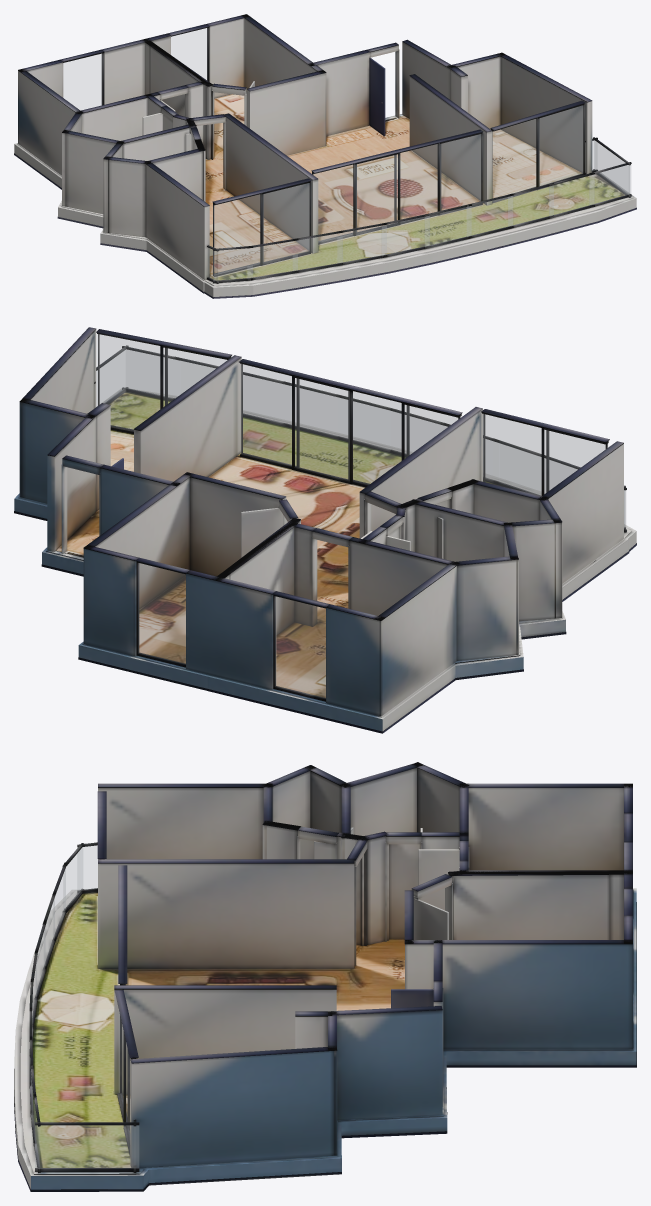
The picture shows the model from 3 angles, top to bottom: view 1: azimuth 30°, elevation 25°; view 2: azimuth 150°, elevation 25°; view 3: azimuth 270°, elevation 25°; orthographic projection. The views are drawn at different scales.
Parts seen in each view (by area): view 1: plan, glass2_m, glass3_m, glass4_m, glass0_m, railg10_m, railg9_m, railg8_m, railg7_m, railg6_m, railg1_m, railg5_m (+5 smaller); view 2: plan, glass2_m, glass3_m, glass4_m, glass0_m, glass1_m, railg6_m, railg9_m, railg5_m, railg1_m, railg3_m, railg2_m (+2 smaller); view 3: plan, railg2_m, railg12_m, railg11_m, glass3_m.
Boxes of the visible parts, x1,y1,x2,y2 form: plan: [14, 14, 636, 298]; glass2_m: [313, 134, 480, 241]; glass3_m: [492, 105, 582, 197]; glass4_m: [214, 183, 309, 272]; glass0_m: [63, 54, 102, 110]; railg10_m: [247, 240, 297, 278]; railg9_m: [293, 233, 342, 270]; railg8_m: [337, 225, 386, 262]; railg7_m: [382, 216, 429, 255]; railg6_m: [425, 206, 471, 246]; railg1_m: [467, 196, 512, 236]; railg5_m: [508, 186, 553, 226]; plan: [14, 327, 636, 733]; glass2_m: [241, 364, 460, 484]; glass3_m: [97, 334, 226, 430]; glass4_m: [483, 414, 605, 495]; glass0_m: [275, 596, 325, 698]; glass1_m: [138, 563, 185, 664]; railg6_m: [344, 399, 390, 449]; railg9_m: [499, 444, 540, 495]; railg5_m: [243, 375, 283, 422]; railg1_m: [290, 386, 337, 435]; railg3_m: [126, 350, 173, 397]; railg2_m: [96, 350, 125, 406]; plan: [14, 762, 636, 1191]; railg2_m: [35, 1125, 138, 1168]; railg12_m: [78, 846, 97, 890]; railg11_m: [64, 848, 82, 910]; glass3_m: [119, 1012, 130, 1137].
Bounding box in the file's own units: 14.27 × 2.62 × 12.11.
2 materials, 1 textured.
